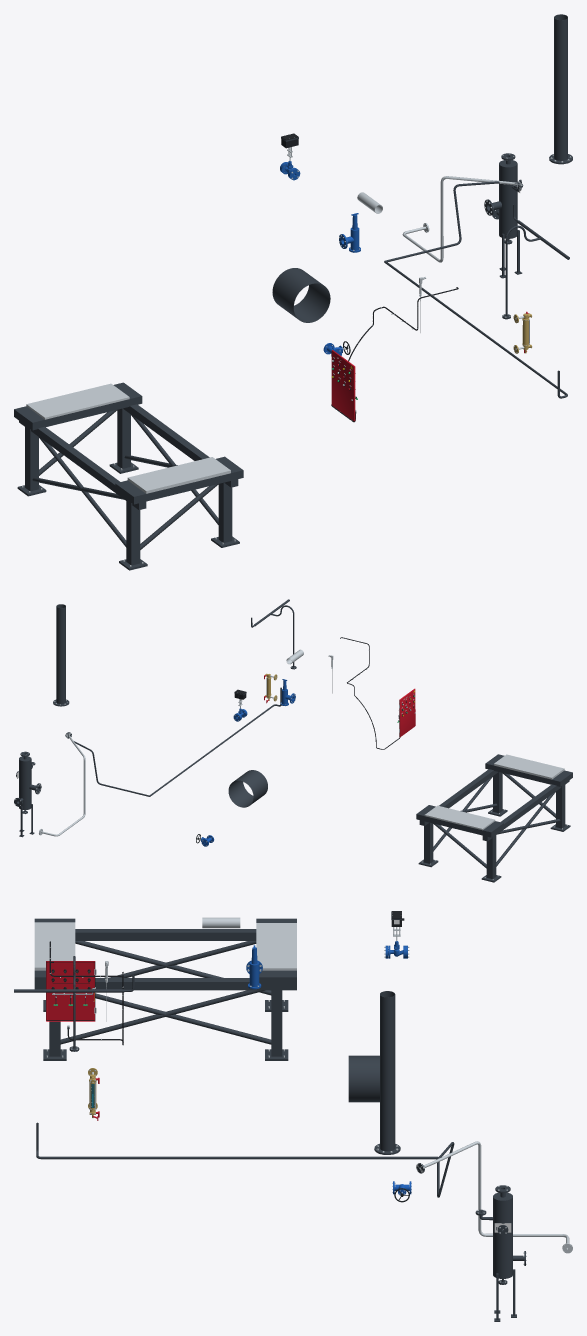
The picture shows the model from 3 angles, top to bottom: view 1: azimuth 30°, elevation 25°; view 2: azimuth 150°, elevation 25°; view 3: azimuth 270°, elevation 25°; orthographic projection. The views are drawn at different scales.
Parts seen in each view (by area): view 1: deaerator_support / dark, deaerator_support / steel, flue_spacer / dark, bdv_vent / dark, separator_fv8 / dark, cabinet_door / cabinet_door_5.npz, trap_gap_to_bdv / steel, tds_common / dark, pressure_header / dark; view 2: deaerator_support / dark, deaerator_support / steel, bdv_vent / dark, separator_fv8 / dark, flue_spacer / dark, cabinet_door / cabinet_door_5.npz, trap_gap_to_bdv / steel, tds_common / dark; view 3: deaerator_support / dark, deaerator_support / steel, cabinet_door / cabinet_door_5.npz, bdv_vent / dark, separator_fv8 / dark, tds_common / dark, flue_spacer / dark, trap_gap_to_bdv / steel, pressure_header / dark.
Boxes of the visible parts, x1,y1,x2,y2 form: deaerator_support / dark: [14, 382, 243, 570]; deaerator_support / steel: [22, 383, 235, 566]; flue_spacer / dark: [272, 268, 330, 322]; bdv_vent / dark: [549, 14, 572, 164]; separator_fv8 / dark: [484, 153, 523, 278]; cabinet_door / cabinet_door_5.npz: [331, 350, 355, 421]; trap_gap_to_bdv / steel: [402, 176, 521, 262]; tds_common / dark: [384, 260, 567, 398]; pressure_header / dark: [502, 204, 569, 319]; deaerator_support / dark: [416, 754, 572, 882]; deaerator_support / steel: [421, 754, 567, 879]; bdv_vent / dark: [53, 604, 69, 706]; separator_fv8 / dark: [14, 751, 41, 837]; flue_spacer / dark: [228, 770, 267, 807]; cabinet_door / cabinet_door_5.npz: [399, 688, 415, 737]; trap_gap_to_bdv / steel: [39, 732, 85, 836]; tds_common / dark: [149, 687, 281, 796]; deaerator_support / dark: [34, 918, 296, 1060]; deaerator_support / steel: [34, 922, 296, 1057]; cabinet_door / cabinet_door_5.npz: [46, 961, 96, 1021]; bdv_vent / dark: [374, 991, 400, 1154]; separator_fv8 / dark: [475, 1185, 525, 1321]; tds_common / dark: [36, 1122, 437, 1159]; flue_spacer / dark: [348, 1055, 379, 1102]; trap_gap_to_bdv / steel: [416, 1141, 572, 1253]; pressure_header / dark: [14, 956, 134, 1051].
Size of the model in its own units: 8.21 by 3.85 by 6.05.
